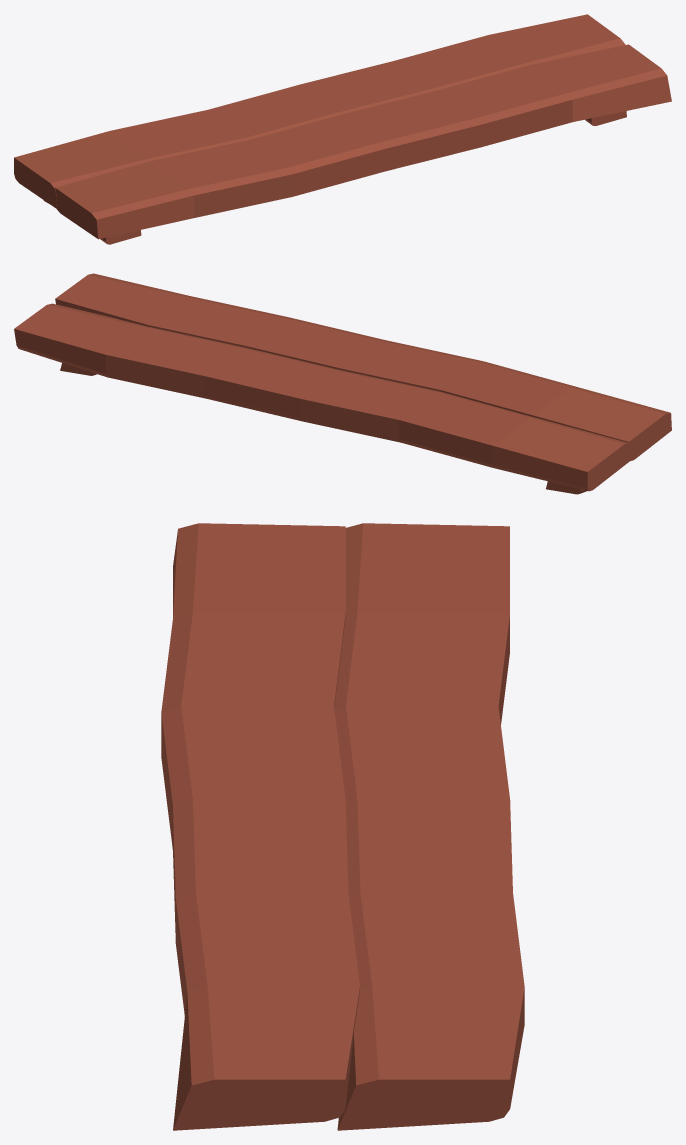
The model's file is shelf.fbx.
3 renders of one model, top to bottom at view 1: azimuth 30°, elevation 25°; view 2: azimuth 150°, elevation 25°; view 3: azimuth 270°, elevation 25°, orthographic. The views are drawn at different scales.
Parts seen in each view (by area): view 1: shelf; view 2: shelf; view 3: shelf.
Boxes of the visible parts, left/top/right/bottom form: shelf: left=14, top=14, right=671, bottom=244; shelf: left=14, top=273, right=671, bottom=494; shelf: left=161, top=523, right=524, bottom=1130.
Size of the model in its own units: 118 by 7.3 by 32.27.
Materials: 1 (1 with a texture image).
